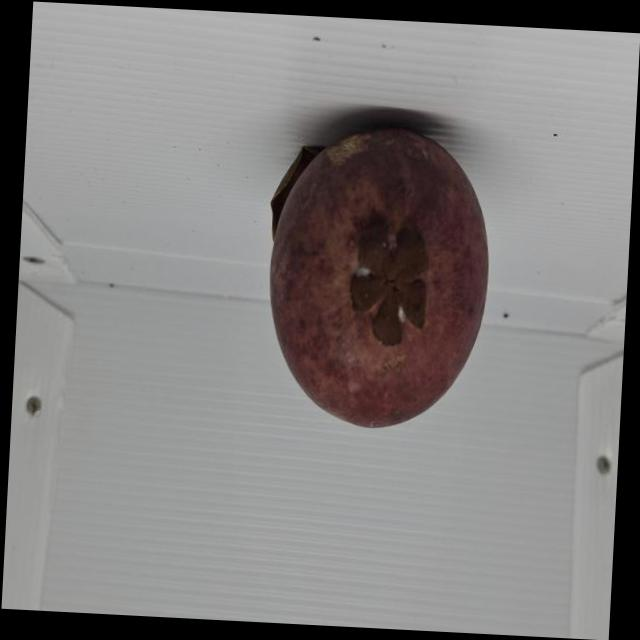mangosteen: (180, 96, 536, 489)
